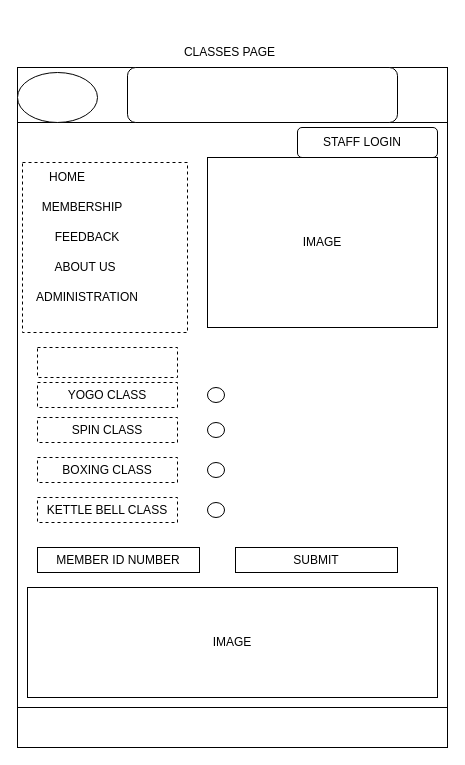
Image size: 465x765. Some labels were removed from this diagram. The shapes that lost their labels are listed below. From the top down, each one's centre as x and y in pixels, then its label:
At [57,97]: "COMPANY LOGO".
At [262,94]: "LOGO".
At [107,362]: "SELECTING CLASSES".
At [232,727]: "FOOTER".
